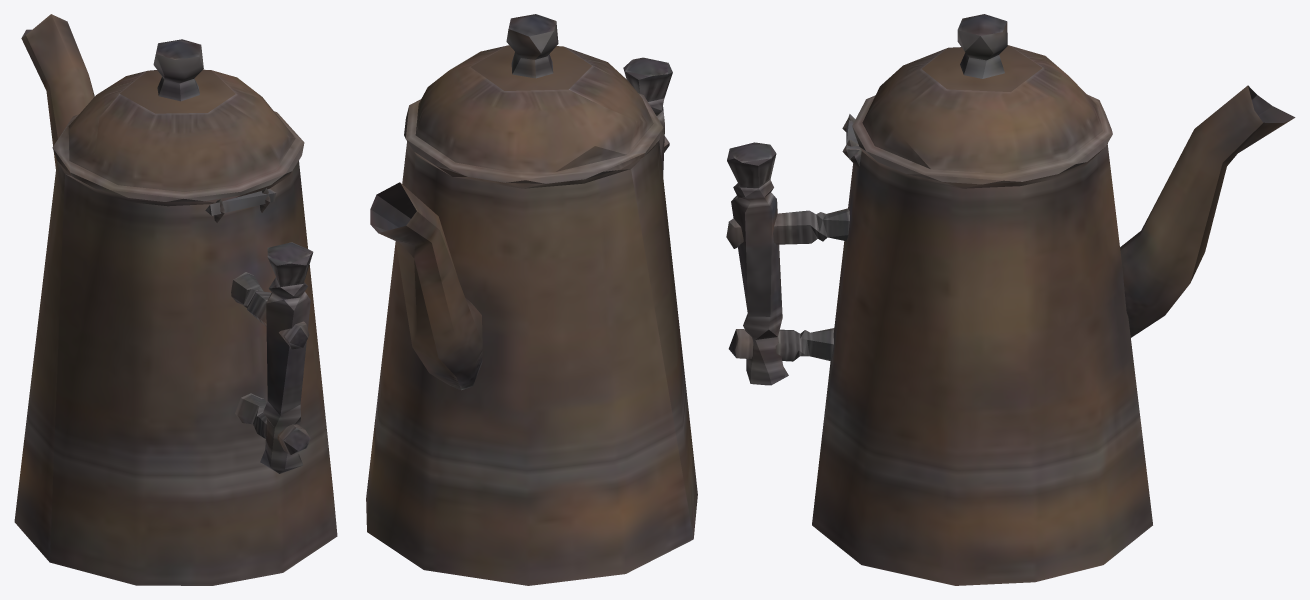
File: coffee-grinder-box.lod1.glb
3 renders of one model, left to right at view 1: azimuth 30°, elevation 25°; view 2: azimuth 150°, elevation 25°; view 3: azimuth 270°, elevation 25°, orthographic. The views are drawn at different scales.
Visible parts, largest first — view 1: coffee-grinder-box; view 2: coffee-grinder-box; view 3: coffee-grinder-box.
Boxes of the visible parts, box(x1,y1,x2,y2) form: coffee-grinder-box: box(14, 14, 337, 585); coffee-grinder-box: box(366, 14, 697, 585); coffee-grinder-box: box(726, 14, 1295, 585).
Bounding box in the file's own units: 0.2435 × 0.3909 × 0.4061.
1 material, 1 textured.
